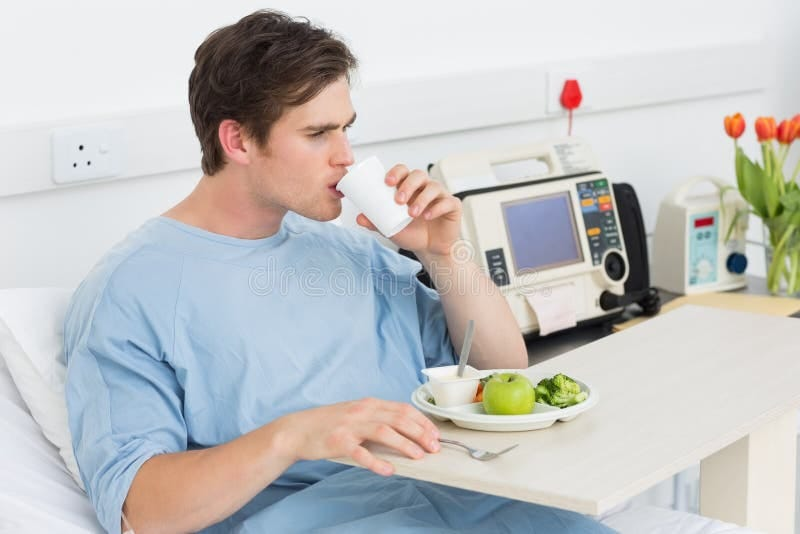eating and drinking: (65, 9, 628, 518)
